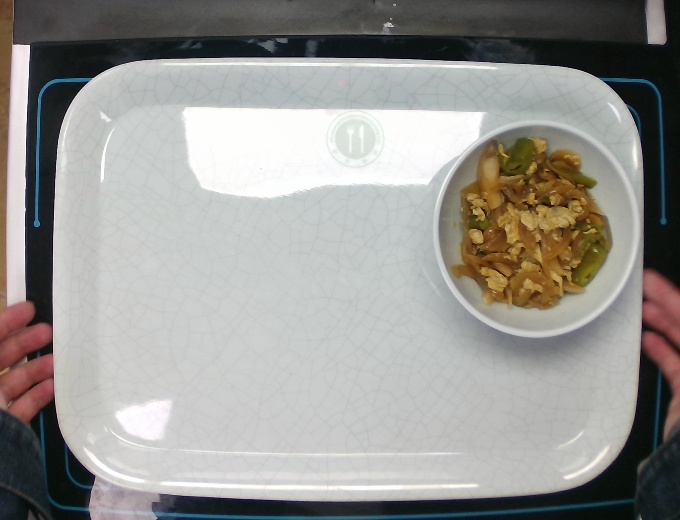JYsf-Fan_Wan: (432, 121, 639, 337)
